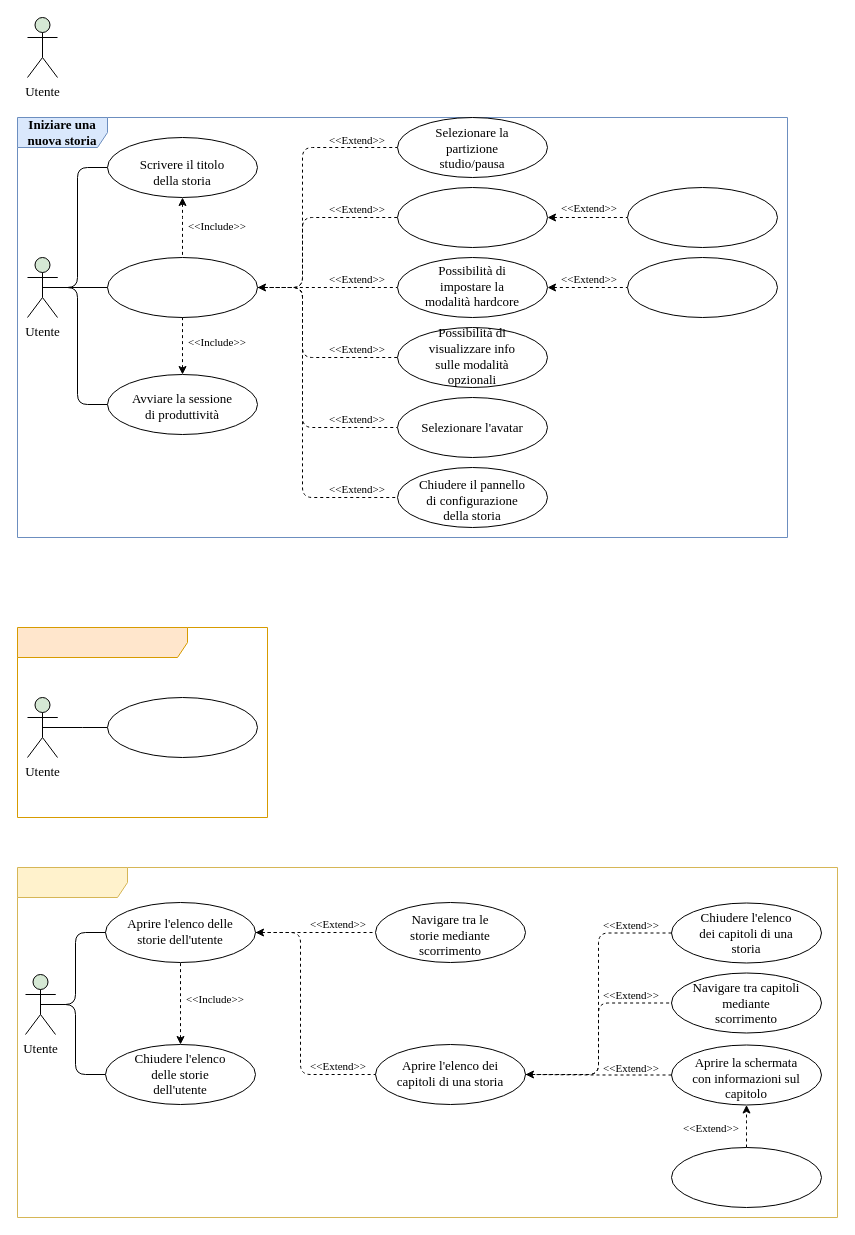
The diagram is 855 pixels wide and 1235 high, and some of its shapes have lost their labels. Each missing label, with the box of its shape:
Aprire il pannello di configurazione della storia: (106, 256, 258, 318)
Chiudere la schermata con informazioni sul capitolo: (670, 1146, 822, 1208)
Concludere la storia: (106, 696, 258, 758)
Consultare i propri progressi: (16, 866, 838, 1218)
Disattivare la modalità hardcore: (626, 256, 778, 318)
Disattivare la modalità silenziosa: (626, 186, 778, 248)
Possibilità di impostare la modalità silenziosa: (396, 186, 548, 248)
Sviluppare e concludere una nuova storia: (16, 626, 268, 818)
